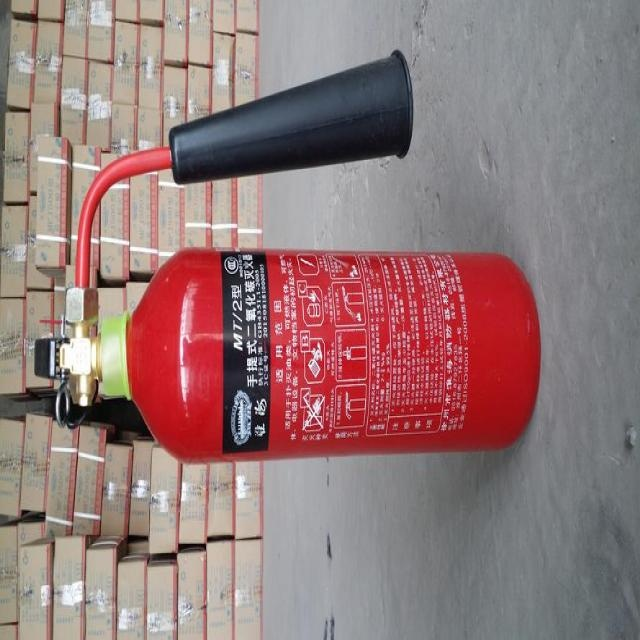fire extinguisher: (42, 42, 546, 482)
